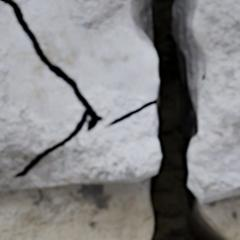broken_brick: (0, 3, 160, 192), (15, 0, 157, 123), (189, 0, 239, 204)
crack: (0, 0, 237, 239)
